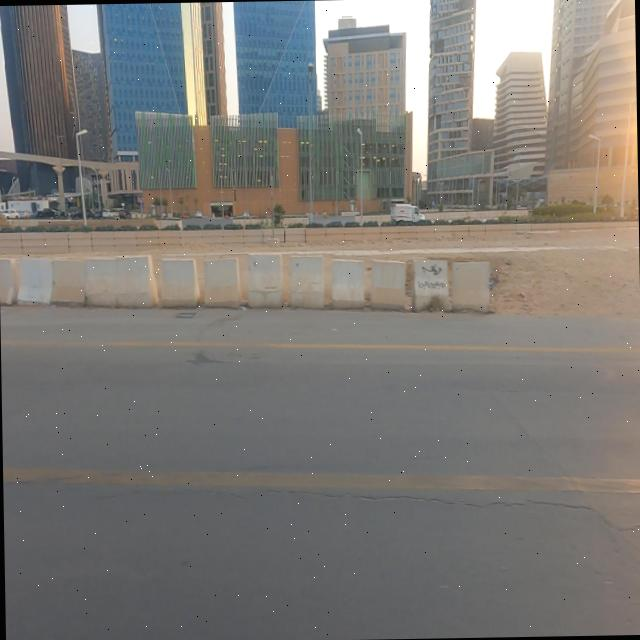Graffiti: (419, 264, 450, 293)
